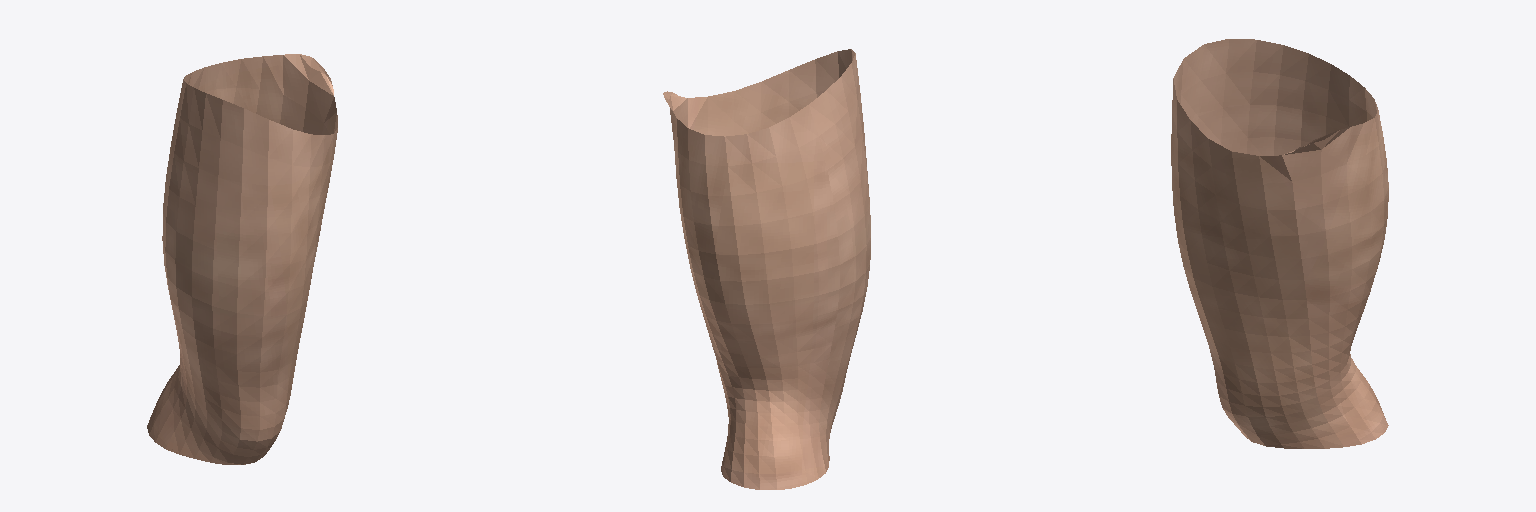
3 renders of one model, left to right at view 1: azimuth 30°, elevation 25°; view 2: azimuth 150°, elevation 25°; view 3: azimuth 270°, elevation 25°, orthographic.
Visible parts, largest first — view 1: piernaDER001; view 2: piernaDER001; view 3: piernaDER001.
Part boxes in pixels (bbox=[...]): piernaDER001: bbox=[147, 54, 337, 464]; piernaDER001: bbox=[663, 49, 870, 489]; piernaDER001: bbox=[1171, 39, 1388, 448].
Size of the model in its own units: 0.1279 by 0.2738 by 0.1429.
1 materials, 1 textured.